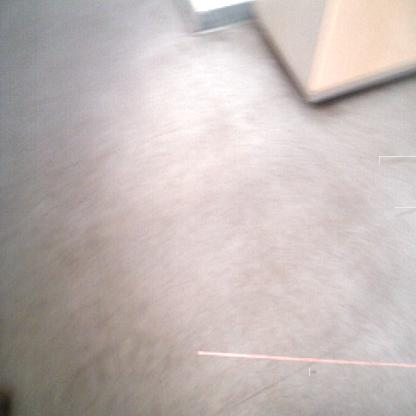mark: (379, 156, 416, 165), (394, 207, 416, 218), (309, 368, 316, 376)
